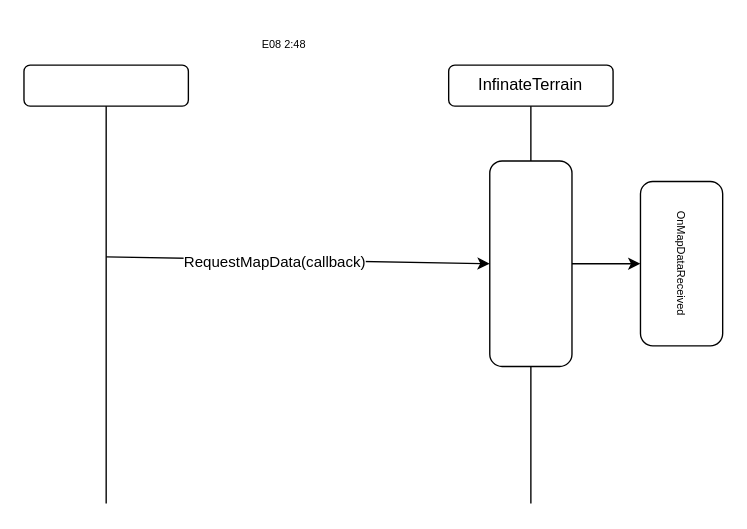
Image size: 747x529. Some labels were removed from this diagram. The centre of each missing label's shape, as x and y in pixels:
"MapGenerator" goes at (x=105, y=85).
"RequestMapData (OnMapDataReceived)" goes at (x=530, y=263).
